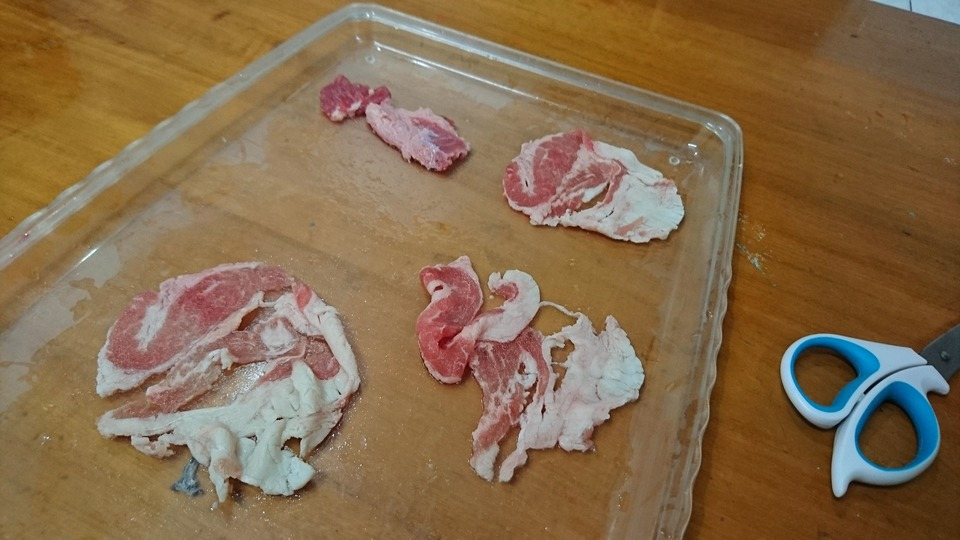restructured meat: (92, 263, 360, 502), (411, 256, 646, 489), (501, 127, 677, 251), (310, 68, 473, 178)
